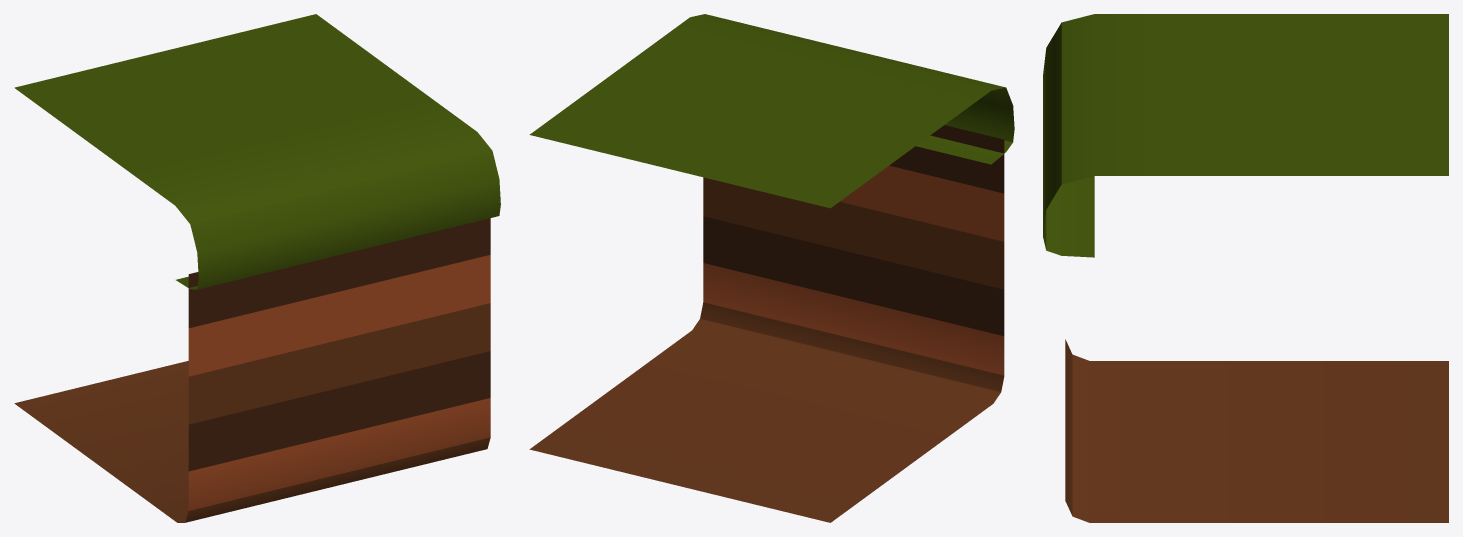
The model's file is Cube_Grass_Side.fbx.
The picture shows the model from 3 angles, left to right: view 1: azimuth 30°, elevation 25°; view 2: azimuth 150°, elevation 25°; view 3: azimuth 270°, elevation 25°; orthographic projection. The views are drawn at different scales.
Parts seen in each view (by area): view 1: Cube_Grass_Side; view 2: Cube_Grass_Side; view 3: Cube_Grass_Side.
Part boxes in pixels (bbox=[...]): Cube_Grass_Side: bbox=[14, 14, 500, 522]; Cube_Grass_Side: bbox=[529, 14, 1014, 522]; Cube_Grass_Side: bbox=[1043, 14, 1448, 522].
Size of the model in its own units: 200 by 200 by 212.
